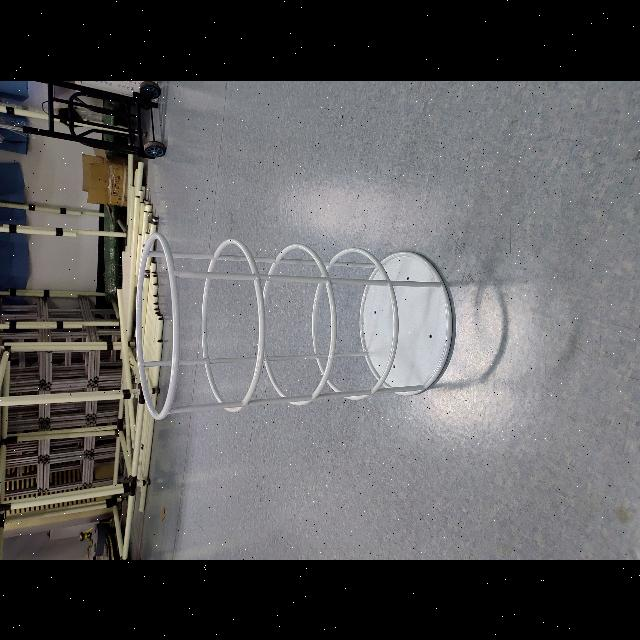S: (130, 230, 458, 422)
